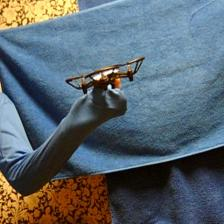drone: (66, 57, 145, 98)
